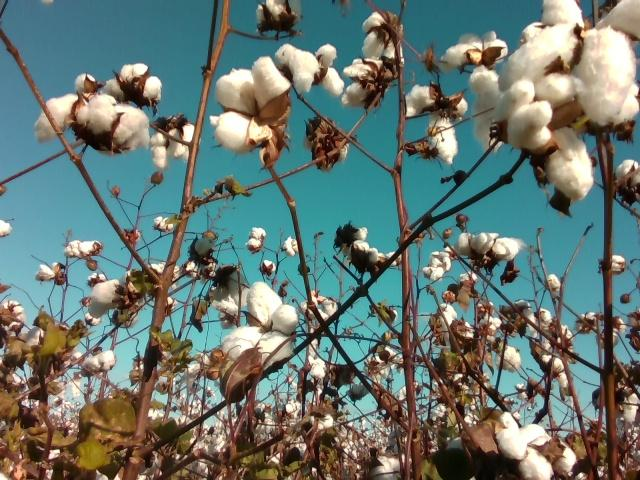cotton_ready: (498, 25, 640, 125), (442, 30, 510, 155), (208, 56, 292, 155), (32, 93, 154, 155), (219, 281, 299, 369), (403, 83, 470, 164), (491, 80, 555, 151), (540, 124, 598, 202), (498, 424, 578, 480), (534, 0, 640, 40), (275, 45, 346, 96), (87, 270, 160, 318), (343, 56, 390, 110), (104, 62, 164, 104), (455, 230, 524, 265), (360, 11, 406, 63), (150, 125, 202, 170), (211, 278, 251, 320), (254, 0, 301, 29)
